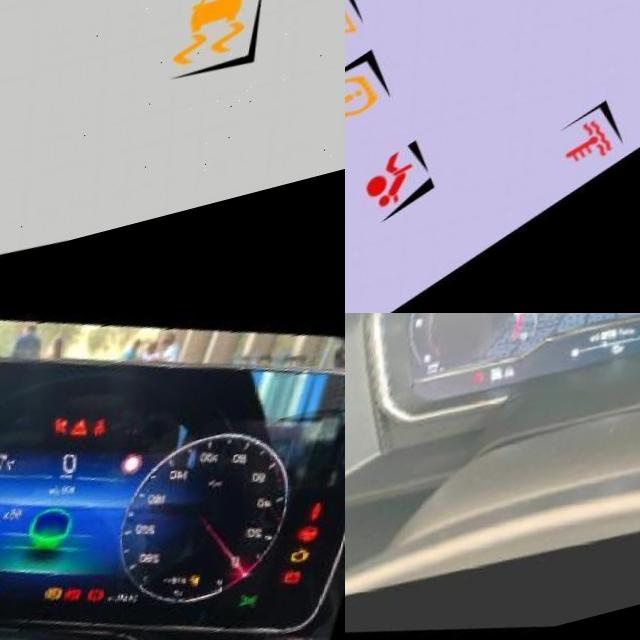Electronic Power Steering: (299, 552, 325, 575)
Low fuel level: (607, 360, 621, 376)
Seat Belt: (96, 436, 114, 463)
